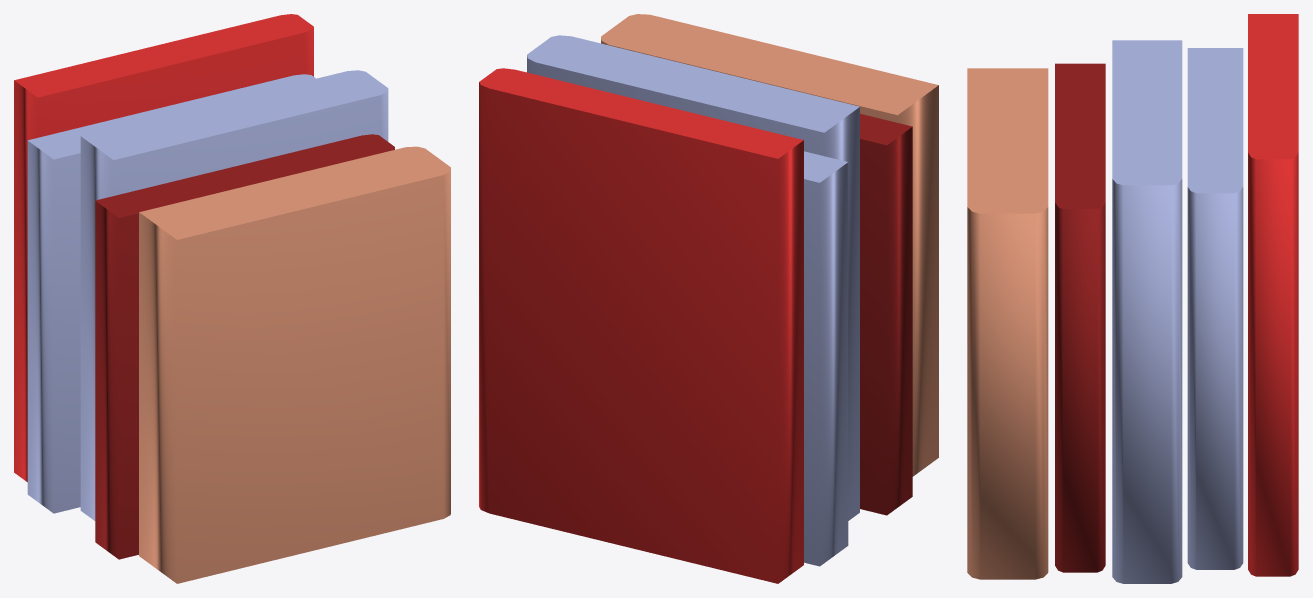
File: books.005.gltf
3 renders of one model, left to right at view 1: azimuth 30°, elevation 25°; view 2: azimuth 150°, elevation 25°; view 3: azimuth 270°, elevation 25°, orthographic. The views are drawn at different scales.
Visible parts, largest first — view 1: books.005; view 2: books.005; view 3: books.005.
Part boxes in pixels (x1,y1,x2,y2): books.005: (14,14,450,583); books.005: (479,14,938,583); books.005: (967,14,1298,583).
Size of the model in its own units: 1.03 by 1.28 by 0.9164.
